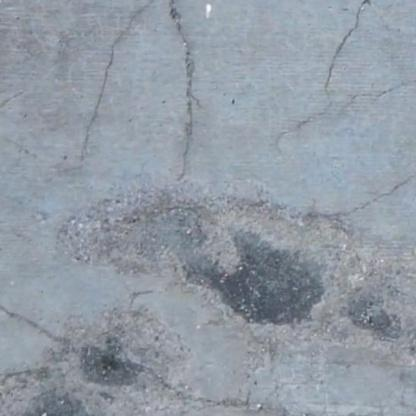Cracks: (68, 0, 205, 189), (132, 356, 416, 416), (276, 0, 389, 149), (284, 164, 416, 229), (0, 284, 85, 357), (0, 84, 37, 133), (0, 364, 53, 389)
